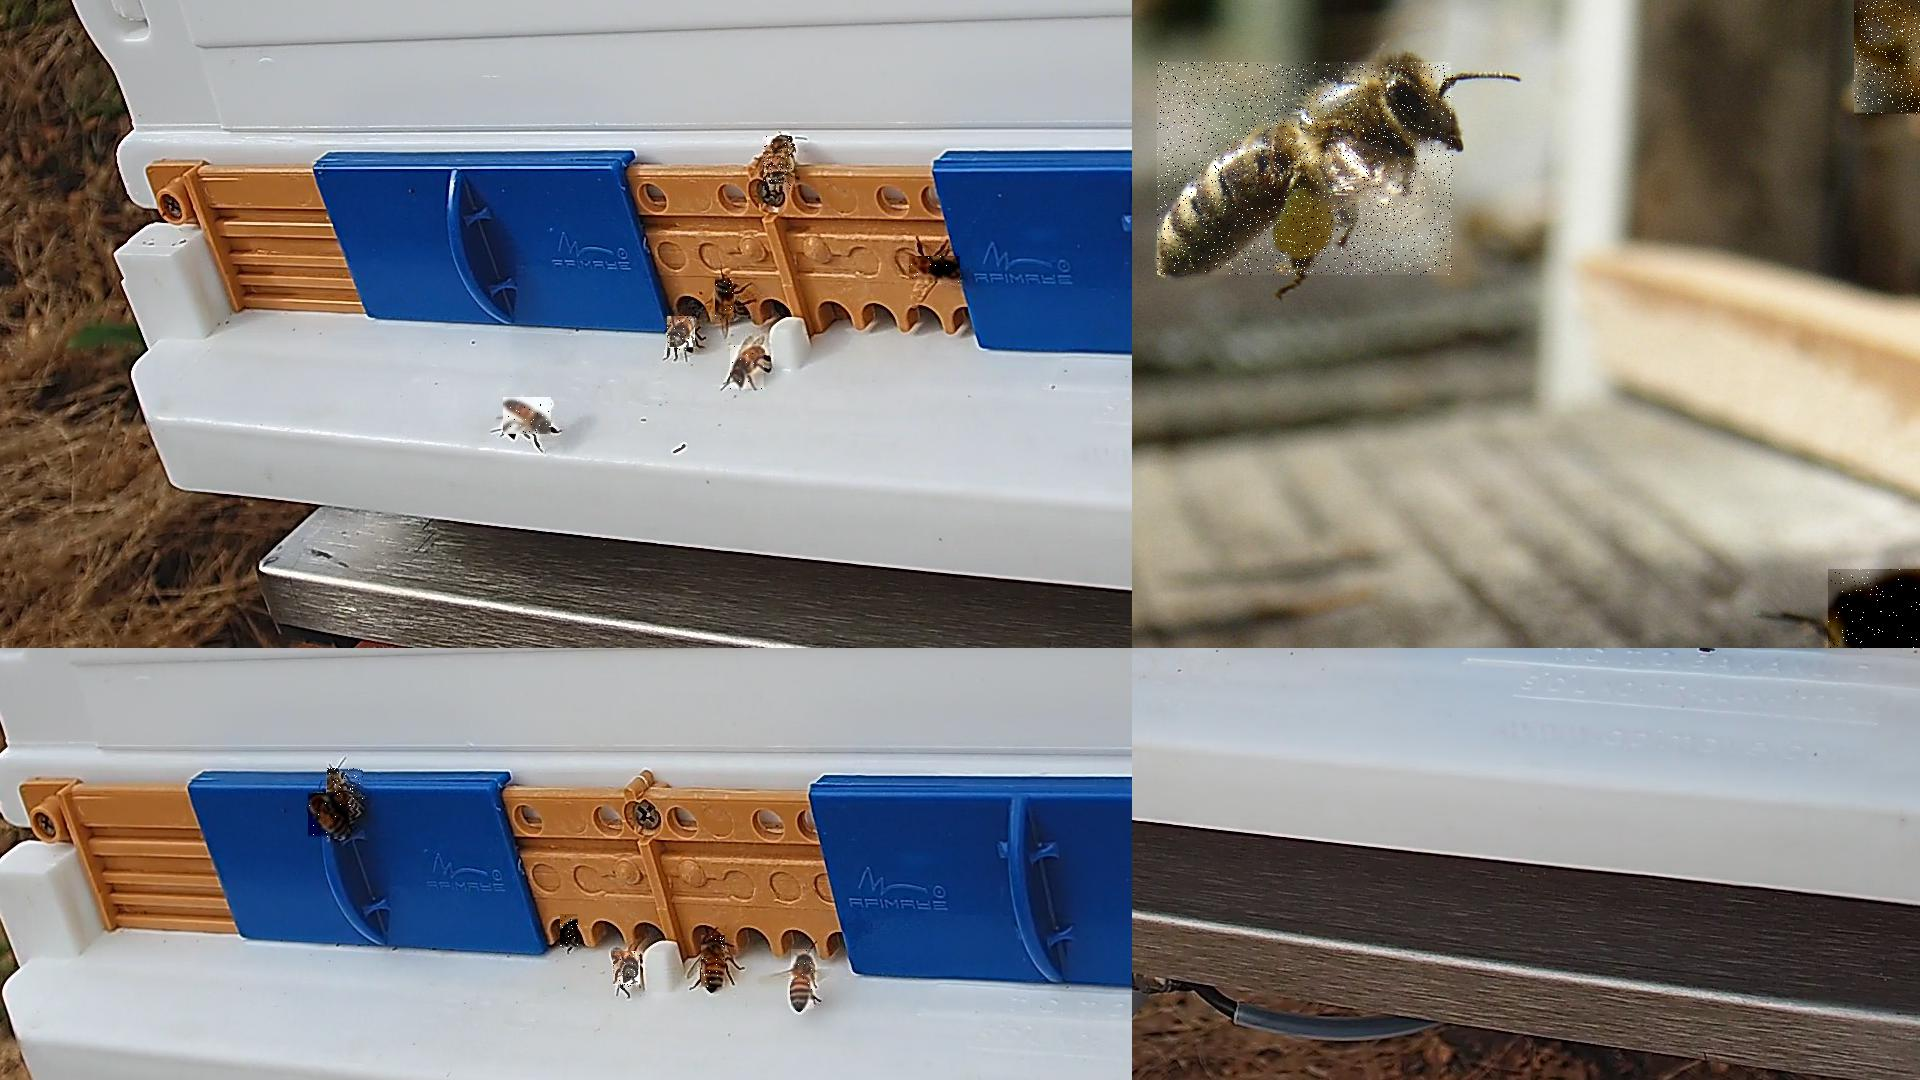bee: (1854, 0, 1919, 117), (1828, 568, 1919, 647), (309, 794, 349, 840), (504, 397, 553, 435), (764, 137, 796, 191), (328, 769, 365, 814), (731, 345, 765, 390), (791, 949, 815, 1010), (909, 257, 961, 284), (702, 935, 727, 988), (667, 316, 696, 352), (613, 952, 641, 989), (715, 278, 736, 323), (560, 914, 579, 948)
pollenbee: (1158, 62, 1455, 276)
